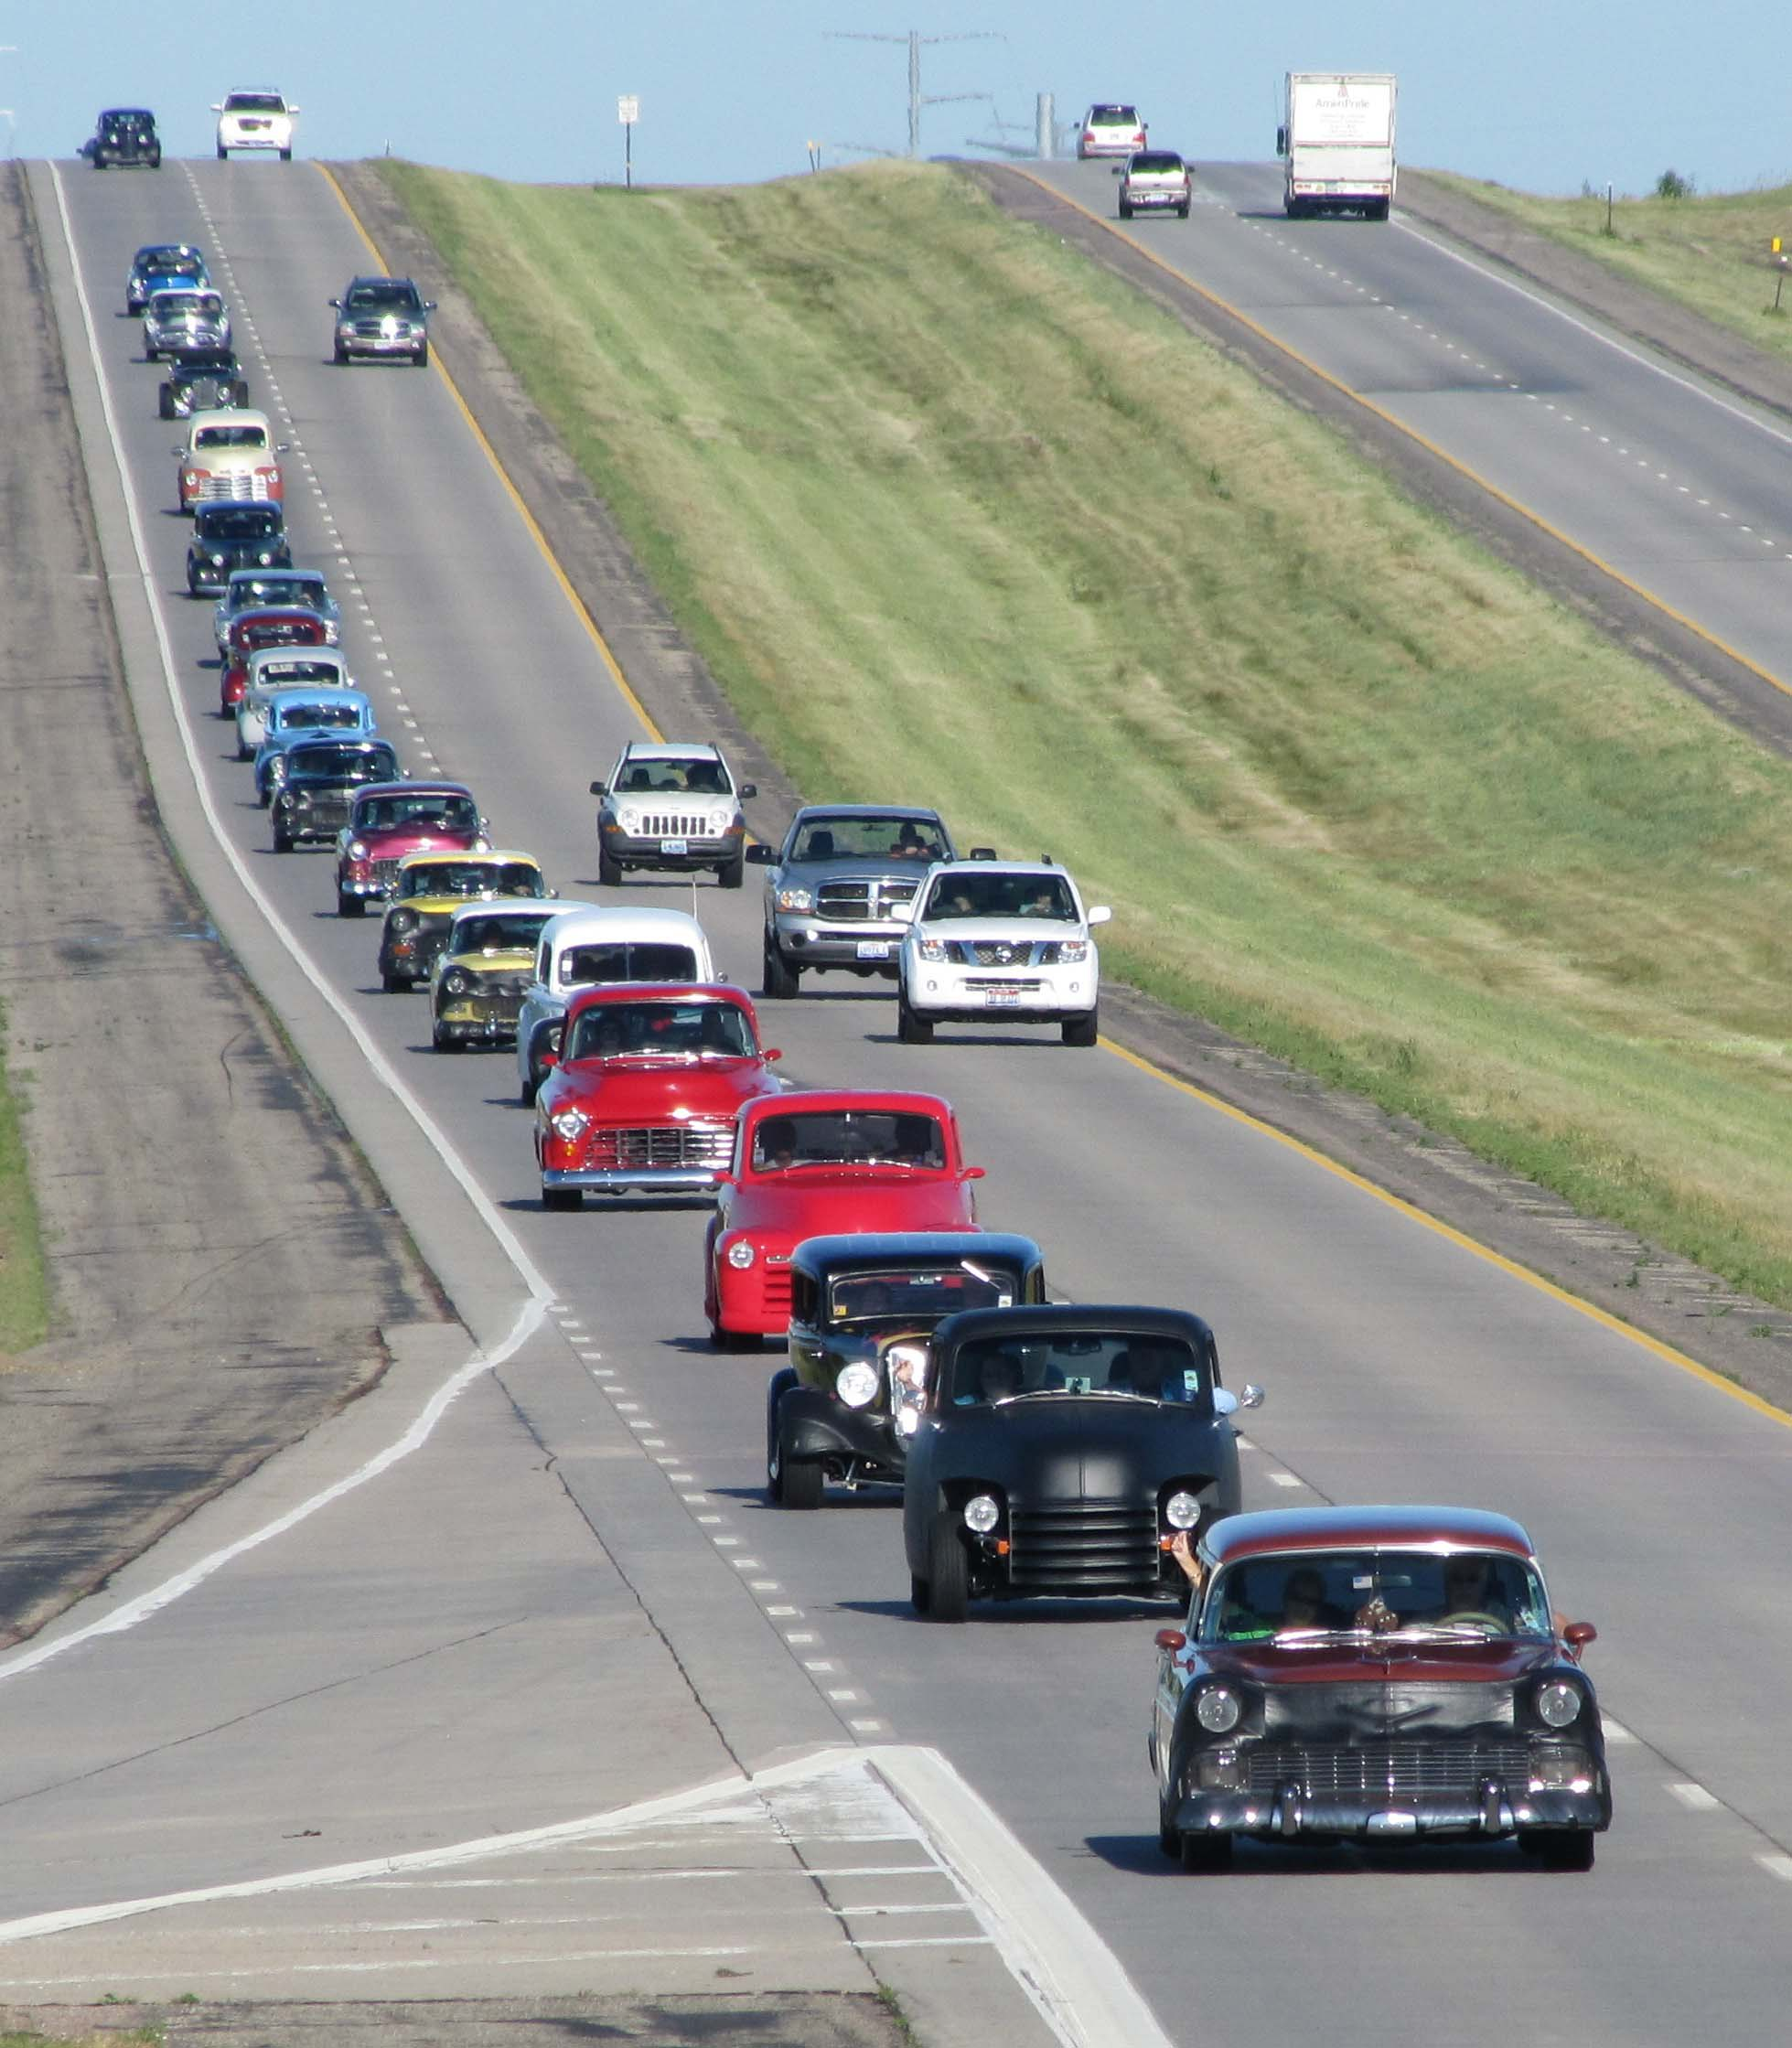car: (1113, 1461, 1663, 1928), (871, 1278, 1266, 1640), (752, 1207, 1076, 1534), (669, 1055, 994, 1378), (512, 972, 805, 1216), (862, 829, 1146, 1075), (740, 784, 1024, 1029), (571, 721, 777, 904), (1261, 56, 1426, 228), (418, 893, 571, 1068), (373, 838, 526, 1012), (313, 766, 475, 918), (253, 728, 421, 862), (162, 392, 301, 528), (310, 251, 449, 383), (178, 482, 307, 610), (199, 77, 324, 181), (211, 554, 347, 648), (244, 679, 380, 771), (235, 637, 371, 730), (70, 85, 190, 186), (1099, 134, 1212, 235), (129, 273, 239, 376), (113, 221, 221, 324), (152, 334, 258, 434), (1062, 87, 1167, 165)
